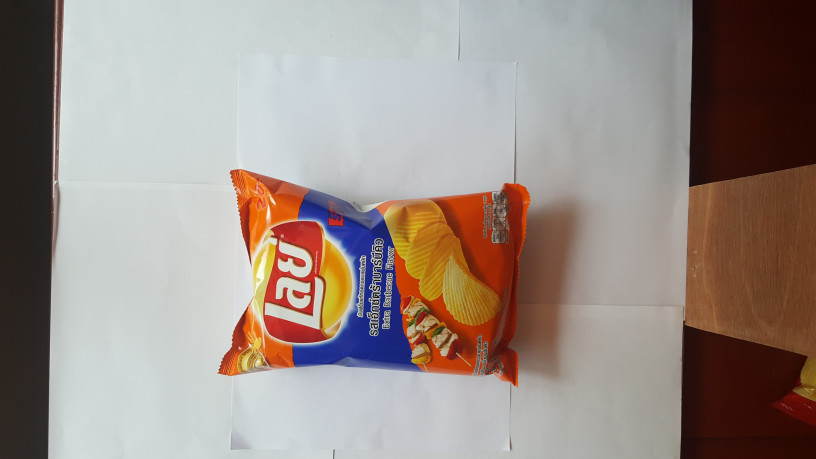lays-bbq: (221, 163, 527, 392)
